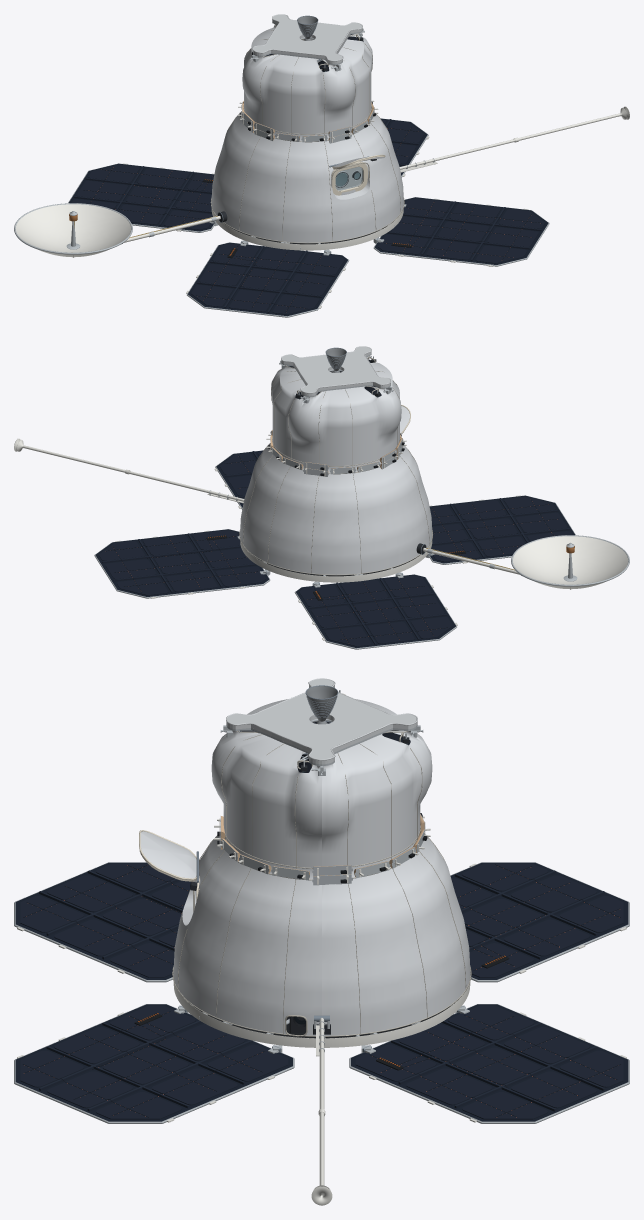
Rendered from orbiter-exterior-mobile.glb.
The picture shows the model from 3 angles, top to bottom: view 1: azimuth 30°, elevation 25°; view 2: azimuth 150°, elevation 25°; view 3: azimuth 270°, elevation 25°; orthographic projection. The views are drawn at different scales.
Visible parts, largest first — view 1: THERMAL_BARRIER_LO1_aluminized_Mylar_thermal_blanket_foil, SOLAR_ARRAYS_LO1_solar_panel_navy_rear_pad, SOLAR_ARRAYS_LO1_solar_panel_navy-black_back, HIGH_GAIN_ANTENNA_LO1_white_honeycomb_reflector_coating, SOLAR_ARRAYS_LO1_solar_panel_navy_anodized_stiffener, ENGINE_DECK_HEAT_SHIELD_LO1_heat_shield_aluminized_foil, THERMAL_BARRIER_LO1_blanket_seam_tape, SOLAR_ARRAYS_LO1_solar_panel_aluminium_frame, EQUIPMENT_MOUNTING_DECK_LO1_deck_ring_white_coating, SOLAR_ARRAYS_LO1_solar_panel_black_interconnect_wire, METEOROID_DETECTORS_LO1_machined_aluminium_structure, LOW_GAIN_ANTENNA_LO1_deck_ring_white_coating (+3 smaller); view 2: THERMAL_BARRIER_LO1_aluminized_Mylar_thermal_blanket_foil, SOLAR_ARRAYS_LO1_solar_panel_navy_rear_pad, SOLAR_ARRAYS_LO1_solar_panel_navy-black_back, HIGH_GAIN_ANTENNA_LO1_white_honeycomb_reflector_coating, SOLAR_ARRAYS_LO1_solar_panel_navy_anodized_stiffener, ENGINE_DECK_HEAT_SHIELD_LO1_heat_shield_aluminized_foil, THERMAL_BARRIER_LO1_blanket_seam_tape, SOLAR_ARRAYS_LO1_solar_panel_aluminium_frame, EQUIPMENT_MOUNTING_DECK_LO1_deck_ring_white_coating, SOLAR_ARRAYS_LO1_solar_panel_black_interconnect_wire, METEOROID_DETECTORS_LO1_machined_aluminium_structure, LOW_GAIN_ANTENNA_LO1_deck_ring_white_coating (+1 smaller); view 3: THERMAL_BARRIER_LO1_aluminized_Mylar_thermal_blanket_foil, SOLAR_ARRAYS_LO1_solar_panel_navy_rear_pad, SOLAR_ARRAYS_LO1_solar_panel_navy-black_back, SOLAR_ARRAYS_LO1_solar_panel_navy_anodized_stiffener, ENGINE_DECK_HEAT_SHIELD_LO1_heat_shield_aluminized_foil, SOLAR_ARRAYS_LO1_solar_panel_aluminium_frame, SOLAR_ARRAYS_LO1_solar_panel_black_interconnect_wire, THERMAL_BARRIER_LO1_blanket_seam_tape, EQUIPMENT_MOUNTING_DECK_LO1_deck_ring_white_coating, METEOROID_DETECTORS_LO1_machined_aluminium_structure, CAMERA_THERMAL_DOOR_LO1_aluminized_Mylar_thermal_blanket_foi, LOW_GAIN_ANTENNA_LO1_deck_ring_white_coating (+1 smaller).
Boxes of the visible parts, x1=… form: THERMAL_BARRIER_LO1_aluminized_Mylar_thermal_blanket_foil: x1=211, y1=25, x2=403, y2=242; SOLAR_ARRAYS_LO1_solar_panel_navy_rear_pad: x1=71, y1=119, x2=544, y2=314; SOLAR_ARRAYS_LO1_solar_panel_navy-black_back: x1=69, y1=118, x2=548, y2=316; HIGH_GAIN_ANTENNA_LO1_white_honeycomb_reflector_coating: x1=15, y1=203, x2=131, y2=252; SOLAR_ARRAYS_LO1_solar_panel_navy_anodized_stiffener: x1=73, y1=119, x2=541, y2=313; ENGINE_DECK_HEAT_SHIELD_LO1_heat_shield_aluminized_foil: x1=252, y1=14, x2=362, y2=63; THERMAL_BARRIER_LO1_blanket_seam_tape: x1=210, y1=24, x2=404, y2=243; SOLAR_ARRAYS_LO1_solar_panel_aluminium_frame: x1=68, y1=118, x2=549, y2=317; EQUIPMENT_MOUNTING_DECK_LO1_deck_ring_white_coating: x1=211, y1=208, x2=403, y2=250; SOLAR_ARRAYS_LO1_solar_panel_black_interconnect_wire: x1=83, y1=127, x2=541, y2=312; METEOROID_DETECTORS_LO1_machined_aluminium_structure: x1=242, y1=101, x2=374, y2=143; LOW_GAIN_ANTENNA_LO1_deck_ring_white_coating: x1=399, y1=113, x2=620, y2=172; THERMAL_BARRIER_LO1_aluminized_Mylar_thermal_blanket_foil: x1=240, y1=356, x2=432, y2=574; SOLAR_ARRAYS_LO1_solar_panel_navy_rear_pad: x1=99, y1=451, x2=572, y2=646; SOLAR_ARRAYS_LO1_solar_panel_navy-black_back: x1=95, y1=450, x2=574, y2=648; HIGH_GAIN_ANTENNA_LO1_white_honeycomb_reflector_coating: x1=512, y1=535, x2=628, y2=584; SOLAR_ARRAYS_LO1_solar_panel_navy_anodized_stiffener: x1=102, y1=451, x2=570, y2=645; ENGINE_DECK_HEAT_SHIELD_LO1_heat_shield_aluminized_foil: x1=281, y1=346, x2=391, y2=395; THERMAL_BARRIER_LO1_blanket_seam_tape: x1=239, y1=356, x2=433, y2=575; SOLAR_ARRAYS_LO1_solar_panel_aluminium_frame: x1=94, y1=450, x2=575, y2=649; EQUIPMENT_MOUNTING_DECK_LO1_deck_ring_white_coating: x1=240, y1=540, x2=432, y2=582; SOLAR_ARRAYS_LO1_solar_panel_black_interconnect_wire: x1=106, y1=455, x2=558, y2=642; METEOROID_DETECTORS_LO1_machined_aluminium_structure: x1=271, y1=430, x2=402, y2=476; LOW_GAIN_ANTENNA_LO1_deck_ring_white_coating: x1=23, y1=445, x2=244, y2=503; THERMAL_BARRIER_LO1_aluminized_Mylar_thermal_blanket_foil: x1=173, y1=699, x2=470, y2=1035; SOLAR_ARRAYS_LO1_solar_panel_navy_rear_pad: x1=20, y1=864, x2=623, y2=1119; SOLAR_ARRAYS_LO1_solar_panel_navy-black_back: x1=15, y1=862, x2=628, y2=1121; SOLAR_ARRAYS_LO1_solar_panel_navy_anodized_stiffener: x1=39, y1=870, x2=604, y2=1111; ENGINE_DECK_HEAT_SHIELD_LO1_heat_shield_aluminized_foil: x1=226, y1=678, x2=417, y2=764; SOLAR_ARRAYS_LO1_solar_panel_aluminium_frame: x1=14, y1=862, x2=629, y2=1123; SOLAR_ARRAYS_LO1_solar_panel_black_interconnect_wire: x1=23, y1=864, x2=620, y2=1117; THERMAL_BARRIER_LO1_blanket_seam_tape: x1=172, y1=693, x2=471, y2=1036; EQUIPMENT_MOUNTING_DECK_LO1_deck_ring_white_coating: x1=173, y1=978, x2=470, y2=1047; METEOROID_DETECTORS_LO1_machined_aluminium_structure: x1=220, y1=814, x2=425, y2=885; CAMERA_THERMAL_DOOR_LO1_aluminized_Mylar_thermal_blanket_foi: x1=140, y1=831, x2=196, y2=878; LOW_GAIN_ANTENNA_LO1_deck_ring_white_coating: x1=316, y1=1018, x2=324, y2=1185.
Bounding box in the file's own units: 5.46 × 1.69 × 3.12.
